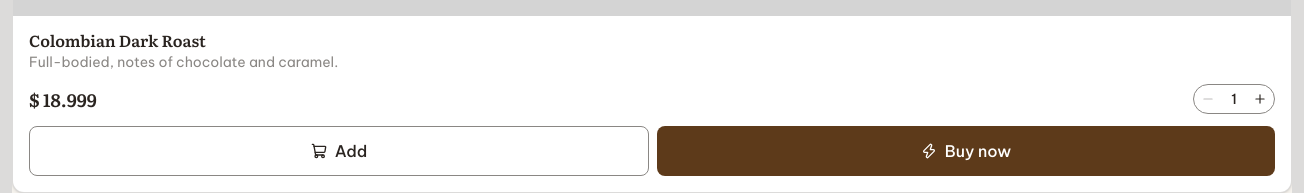
Test case: ProductCard › increments and decrements the quantity, clamped between 1 and the available stock
(page scrolled)
Check: the button named "decrease quantity" is disabled, box x1=1194 y1=85 x2=1222 y2=113
Click the button named "increase quantity".
click(1260, 99)  # box x1=1246 y1=85 x2=1274 y2=113
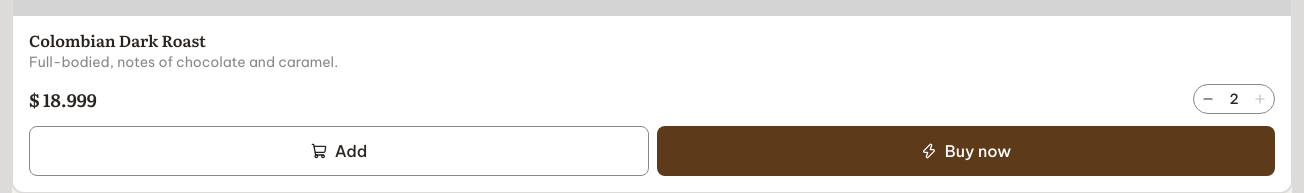
Check: the text "2" is shown, box x1=1229 y1=90 x2=1239 y2=108
Check: the button named "increase quantity" is disabled, box x1=1246 y1=85 x2=1274 y2=113
Click the button named "decrease quantity".
click(1208, 99)  # box x1=1194 y1=85 x2=1222 y2=113
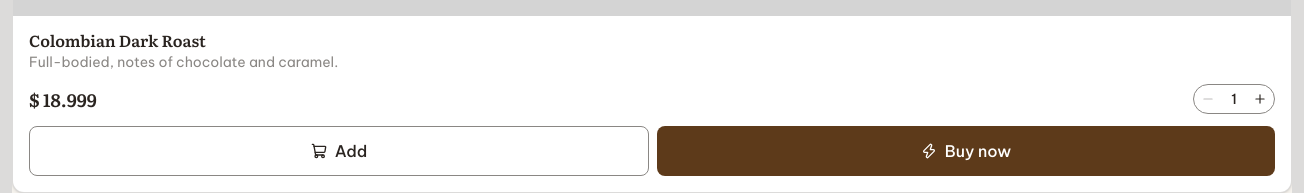
Check: the text "1" is shown, box x1=1231 y1=90 x2=1237 y2=108
